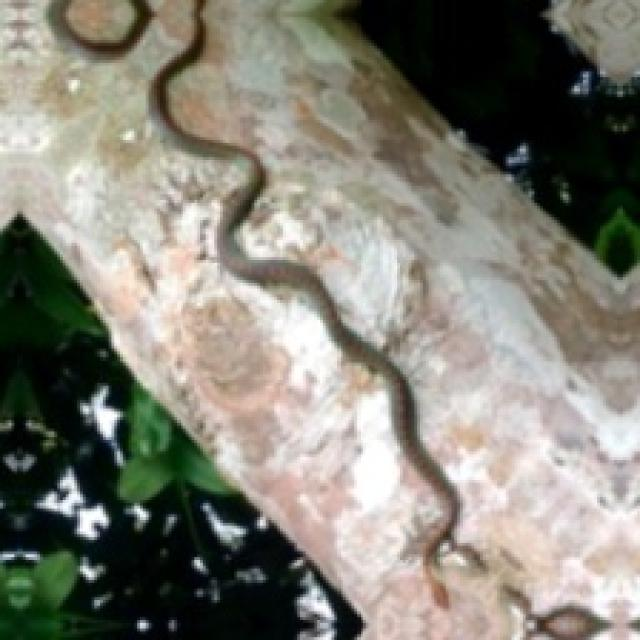paradise tree snake: (37, 0, 637, 637), (149, 0, 457, 606), (271, 463, 391, 577)
